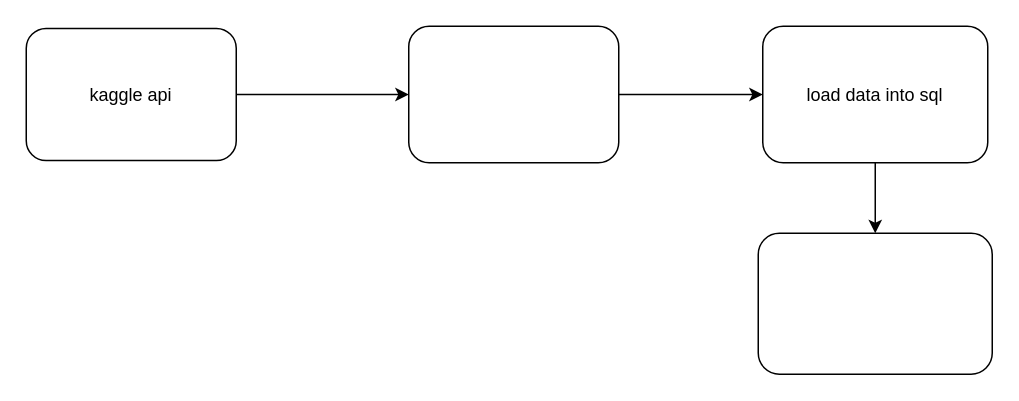
This 1019x401 diagram has some shape labels left out. The shapes that lost their labels are listed below. From the top down, each one's centre as x and y in pixels, then its label:
At point (513, 94): "data-cleaning and preprocessing".
At point (874, 303): "data analysis".
